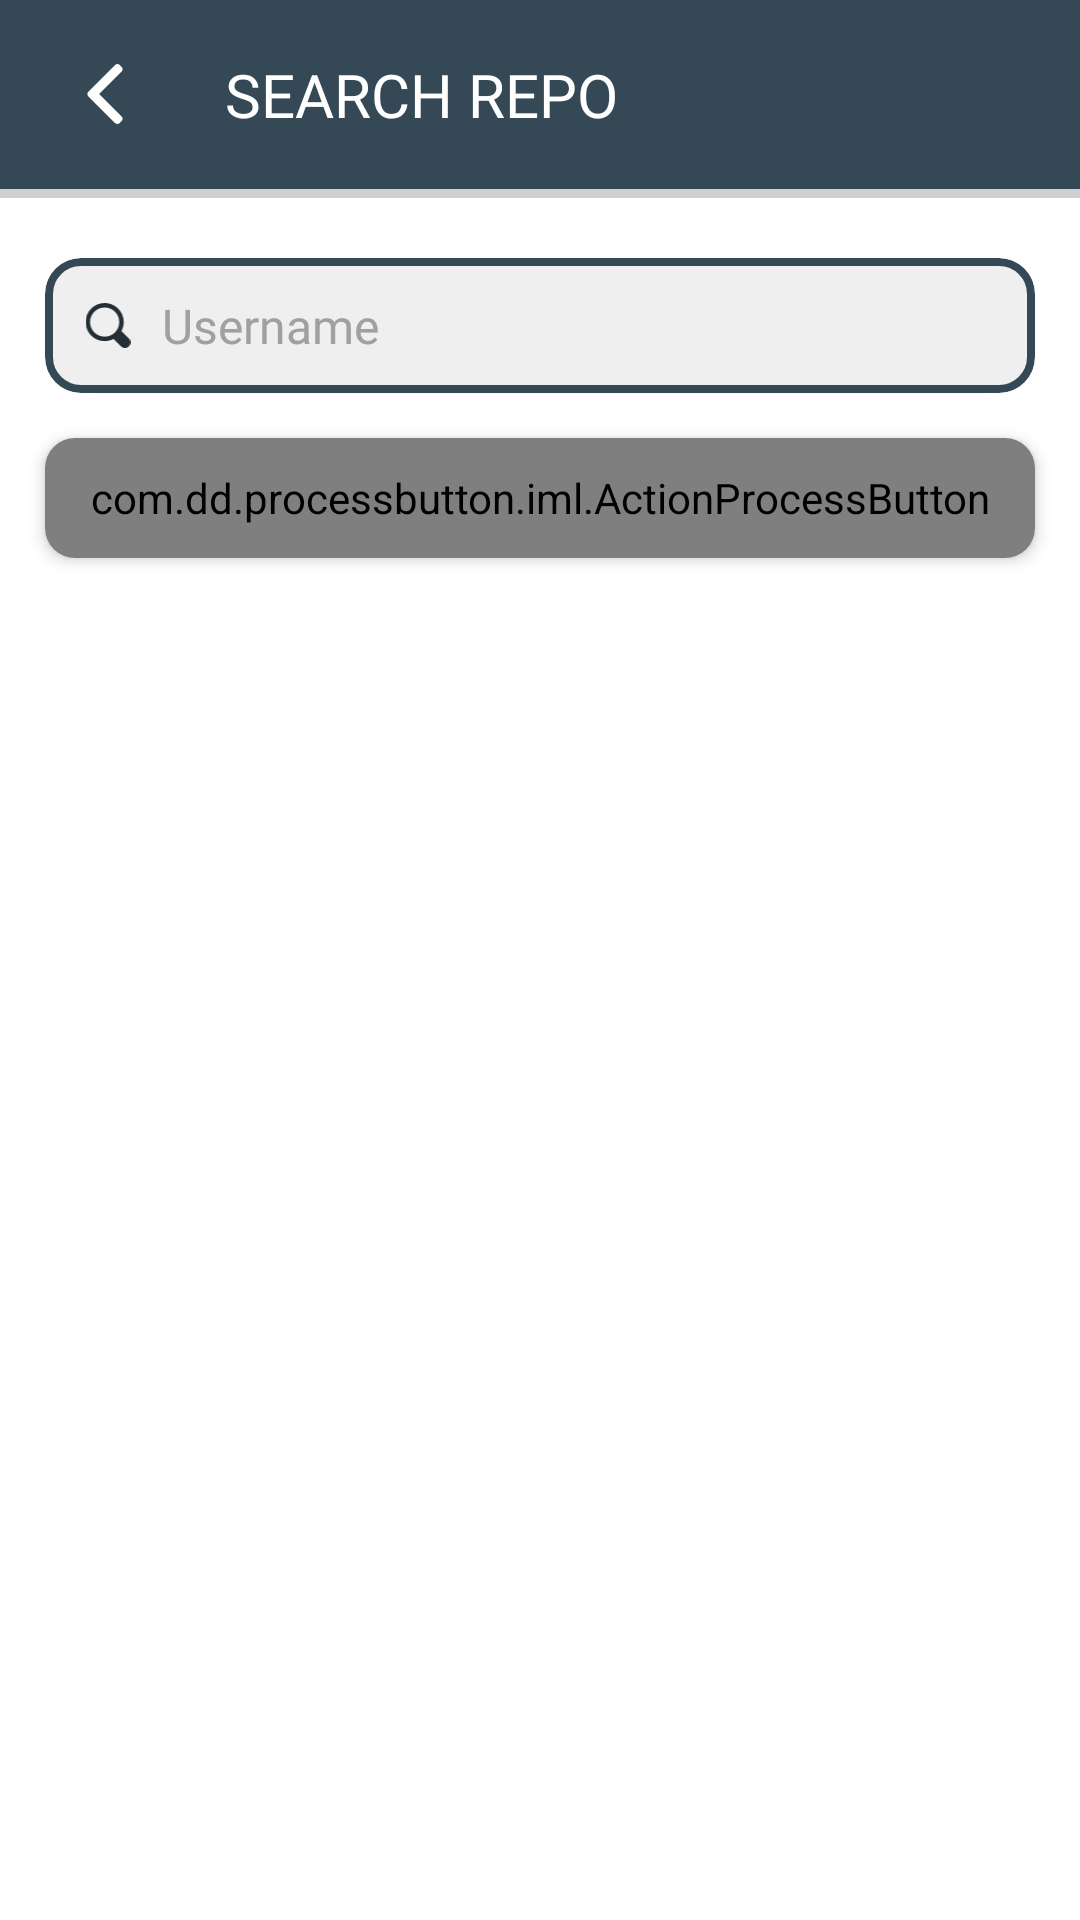

Icons on this 1080px×1920px Android screen, each with its box as (x1, y1, x2, y2):
left arrow: (87, 64, 123, 124)
search: (86, 303, 131, 348)
